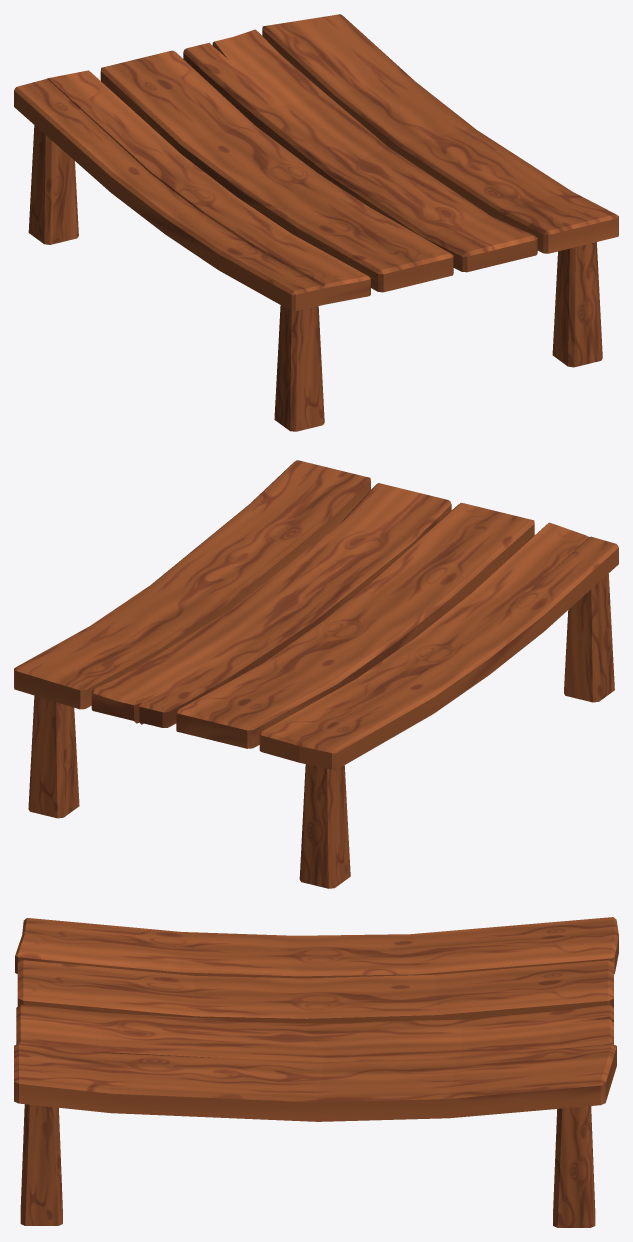
Rendered from SM_Large_Table.fbx.
3 renders of one model, top to bottom at view 1: azimuth 30°, elevation 25°; view 2: azimuth 150°, elevation 25°; view 3: azimuth 270°, elevation 25°, orthographic. The views are drawn at different scales.
Visible parts, largest first — view 1: SM_Large_Table; view 2: SM_Large_Table; view 3: SM_Large_Table.
Boxes of the visible parts, left/top/right/bottom form: SM_Large_Table: left=14, top=14, right=618, bottom=431; SM_Large_Table: left=14, top=460, right=618, bottom=888; SM_Large_Table: left=14, top=917, right=618, bottom=1227.
Bounding box in the file's own units: 150 × 63.62 × 230.
